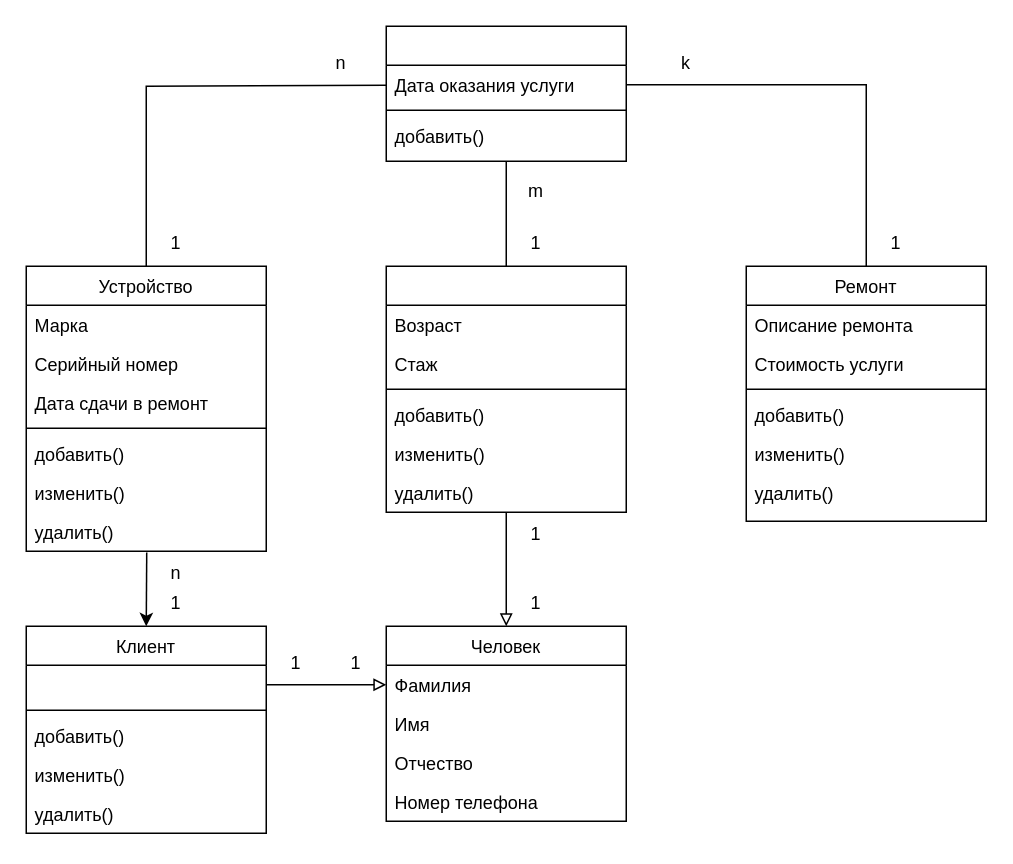
This 1013x864 diagram has some shape labels left out. The box of each missing label's shape, as (x1, y1, x2, y2) in pixels:
Оказанная услуга: (385, 25, 626, 161)
Сотрудник: (385, 265, 626, 512)
